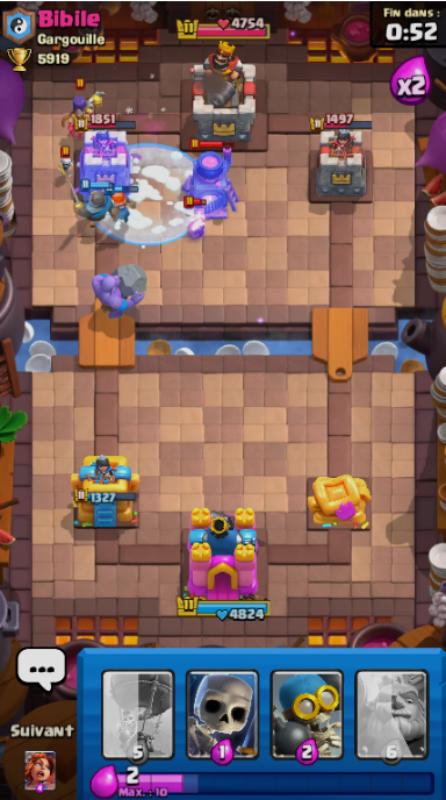chevalier: (76, 176, 112, 230)
squelette: (57, 151, 74, 179)
valkyrie: (100, 186, 140, 228)
